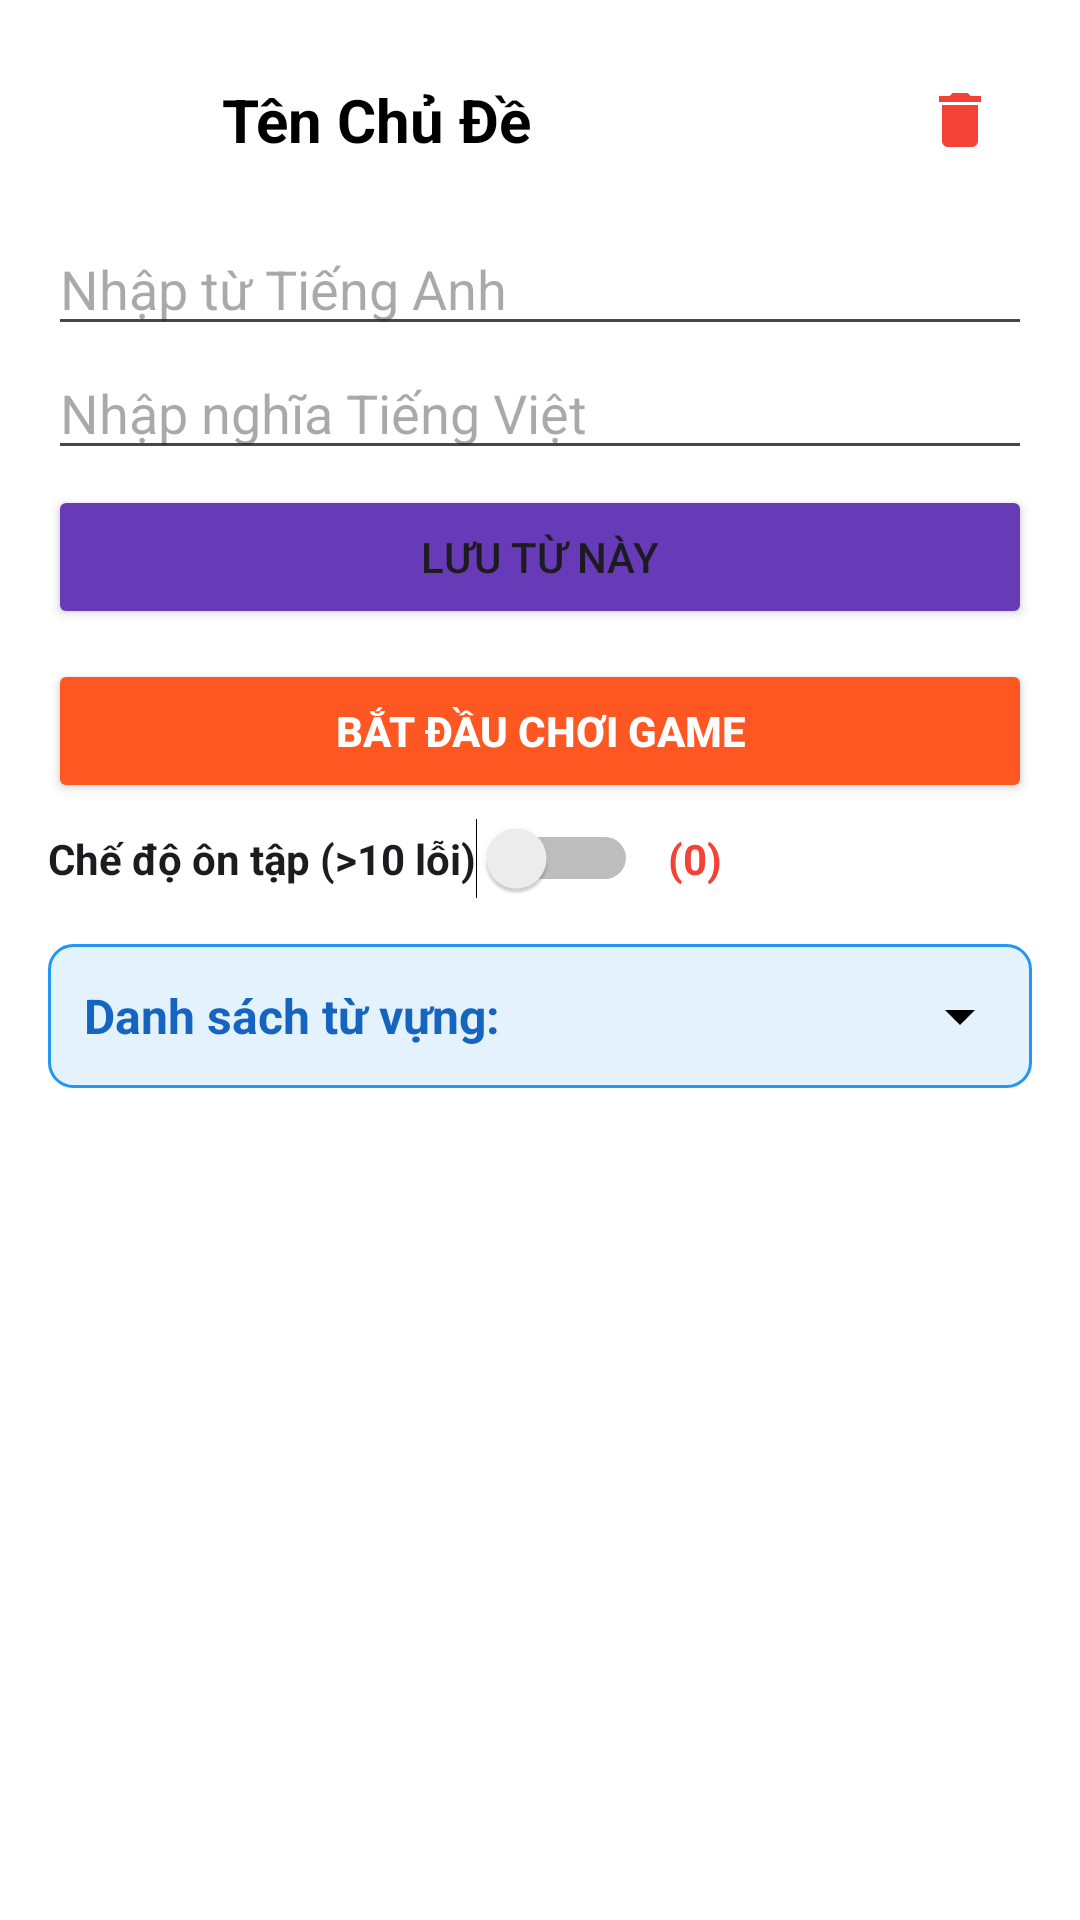

Where icons sit on this 1080px×1920px app screen, as bbox=(x1, y1, x2, y2):
arrow drop down: bbox=(945, 1010, 975, 1025)
delete trash: bbox=(939, 93, 981, 147)
